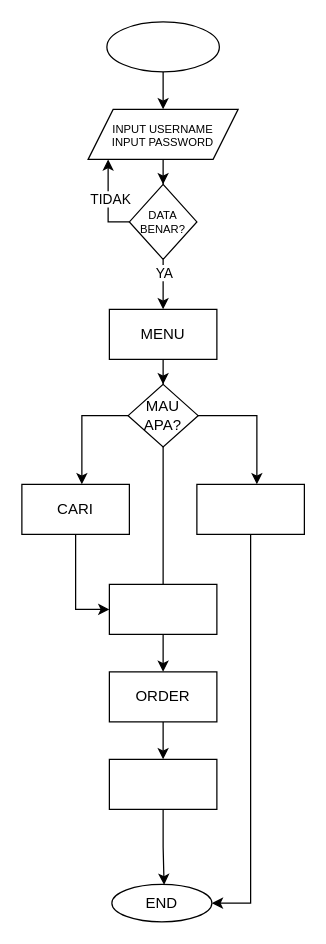
The diagram is 326 pixels wide and 944 high, and some of its shapes have lost their labels. Each missing label, with the centre of its shape:
"PILIH" belongs at [162,608].
"START" belongs at [162,46].
"STATISTIK" belongs at [250,508].
"TOTAL HARGA" belongs at [162,783].
